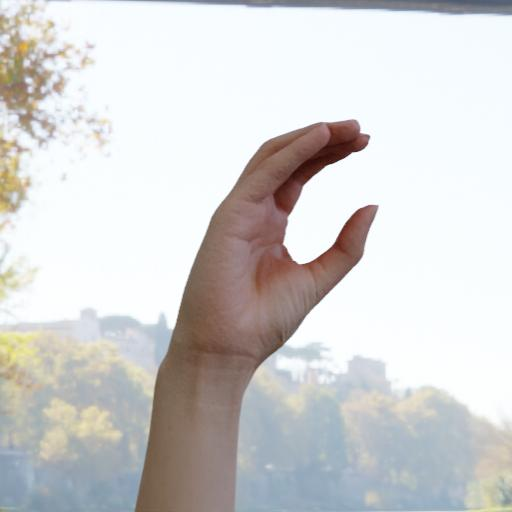C: (153, 107, 389, 368)
